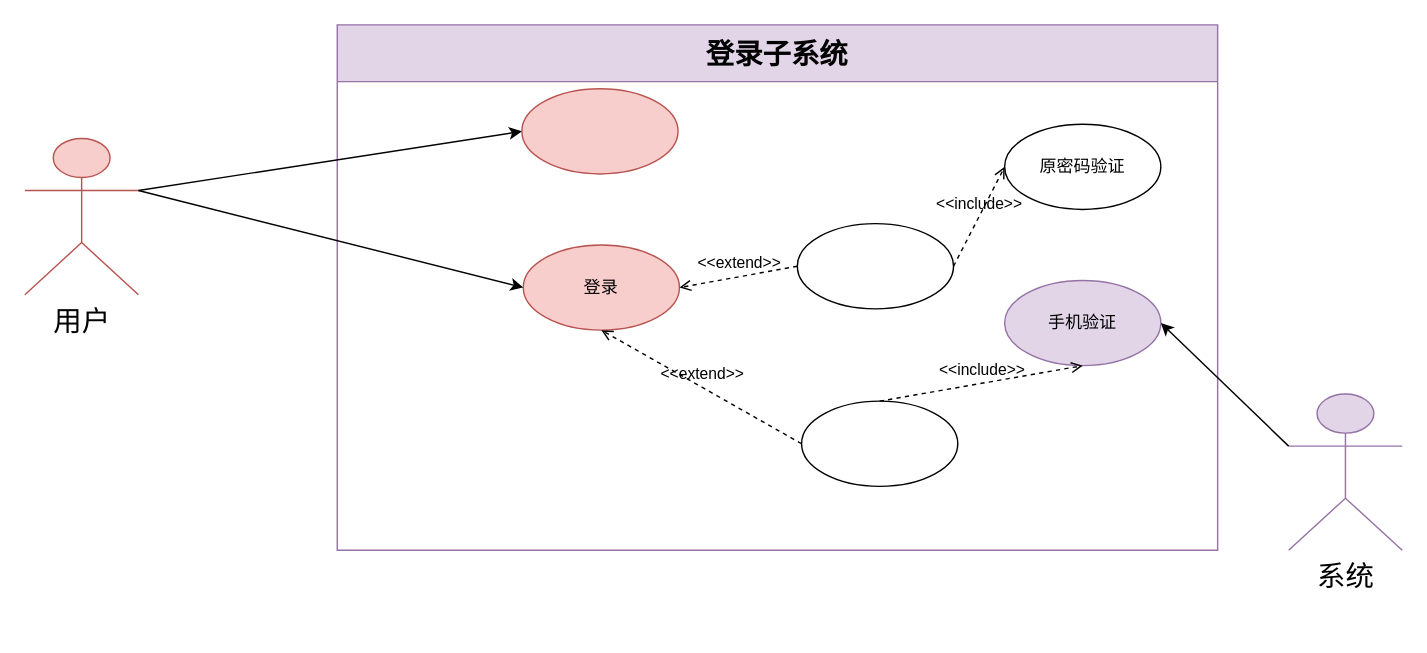
Image size: 1427x653. Some labels were removed from this diagram. The centre of each missing label's shape, as x and y in pixels:
"修改密码" belongs at point (875, 265).
"忘记密码" belongs at point (879, 443).
"注册" belongs at point (599, 130).
